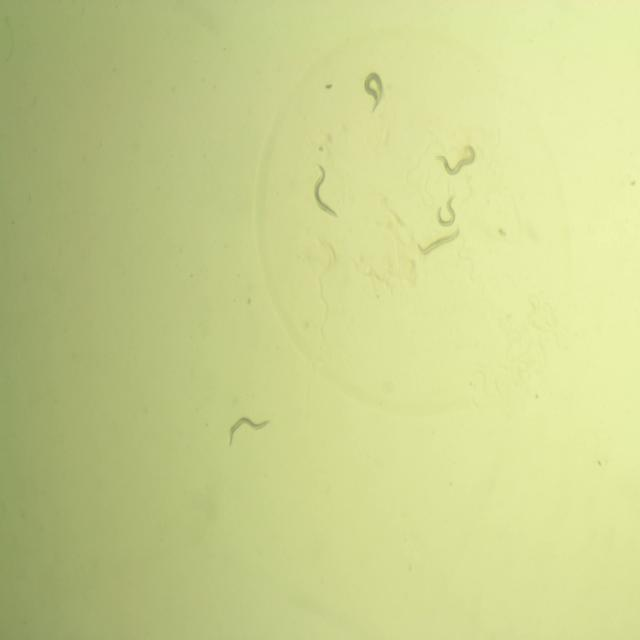worm: (432, 138, 481, 179), (226, 412, 273, 453), (310, 161, 341, 222), (414, 223, 463, 260), (361, 68, 387, 118), (434, 190, 460, 232)
